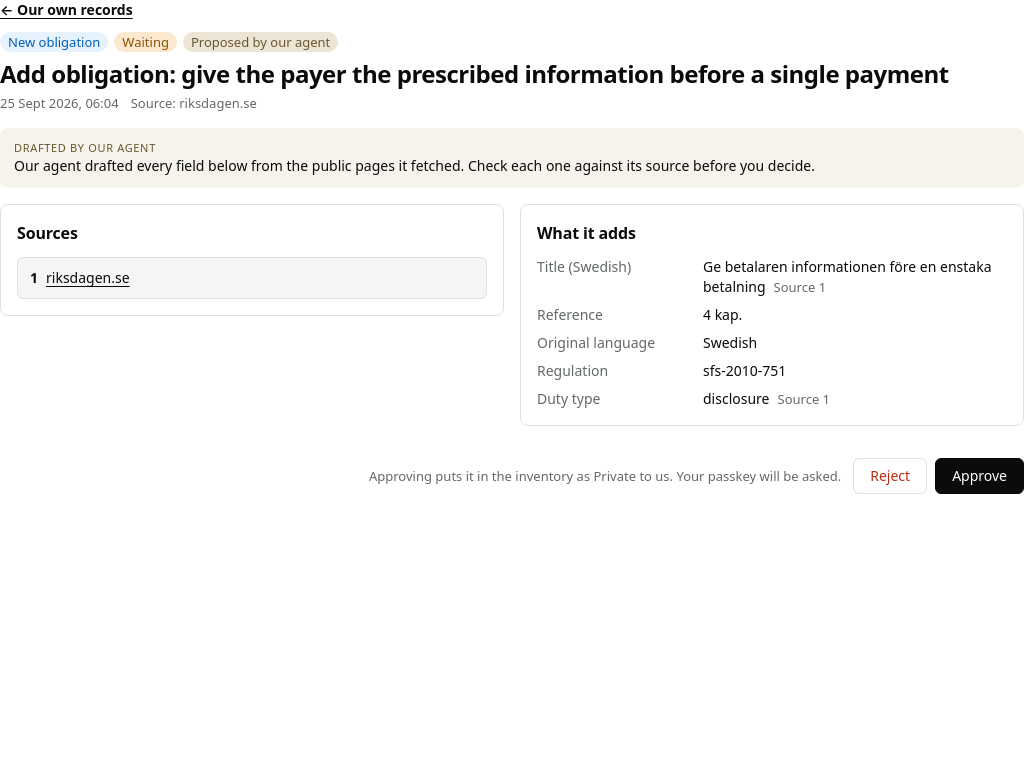
a proposal › approves after the confirmation and the passkey, and says it is in our inventory as Private to us
The width and height of the screenshot is (1024, 768).
Click the button "Approve".
click(980, 476)  # box 935,458 -> 1023,494
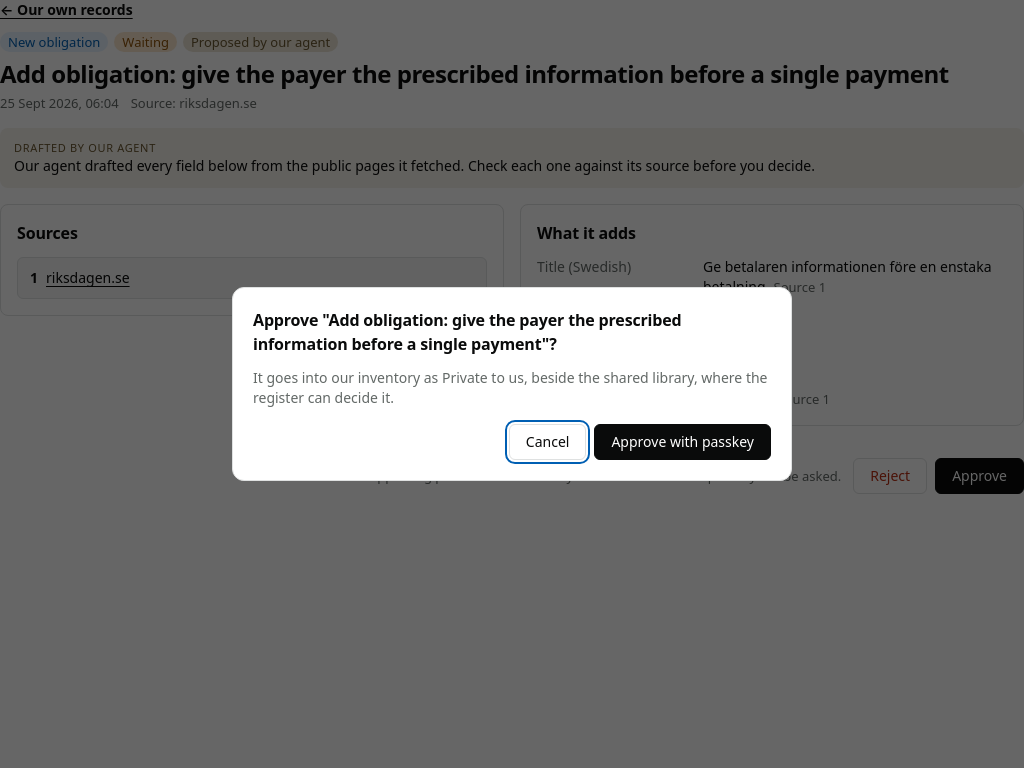
expect the dialog shows "It goes into our inventory as Private to us": met, box 253,368 -> 768,407
Click the button "Approve with passkey".
click(683, 442)  # box 594,424 -> 771,460
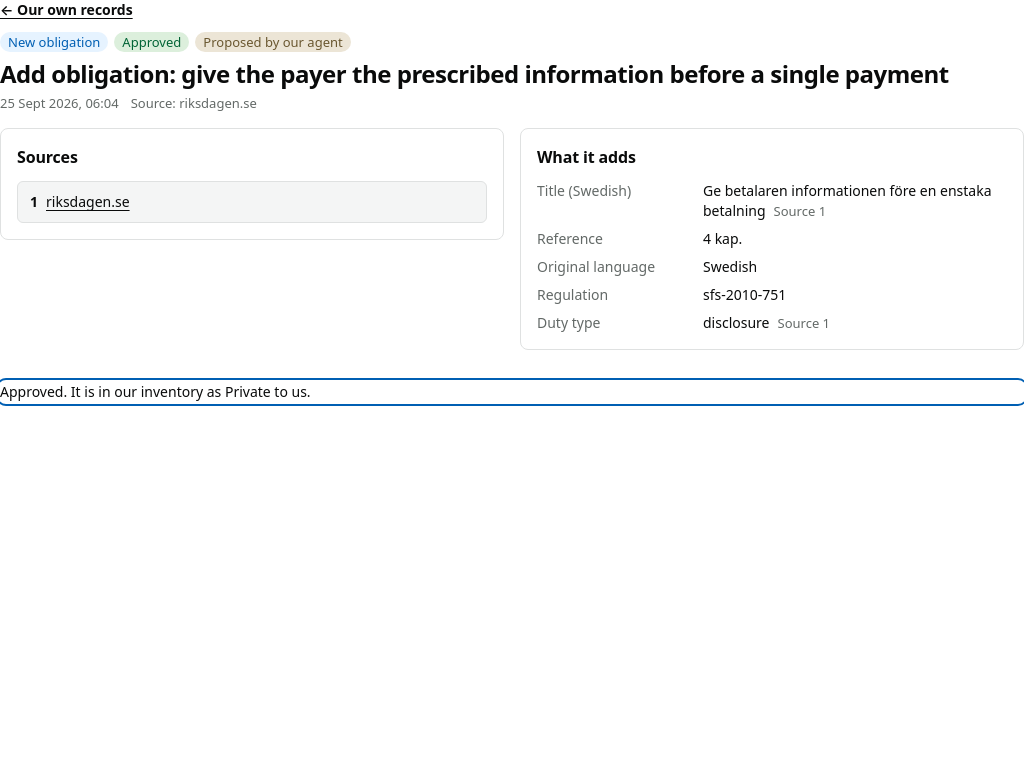
expect the text "Approved. It is in our inventory as Private to us." is shown: met, box 0,382 -> 311,401
